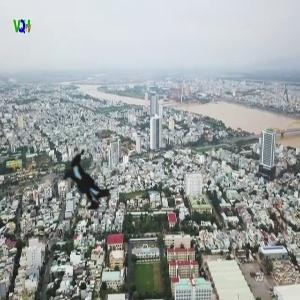drone: (4, 101, 173, 270)
